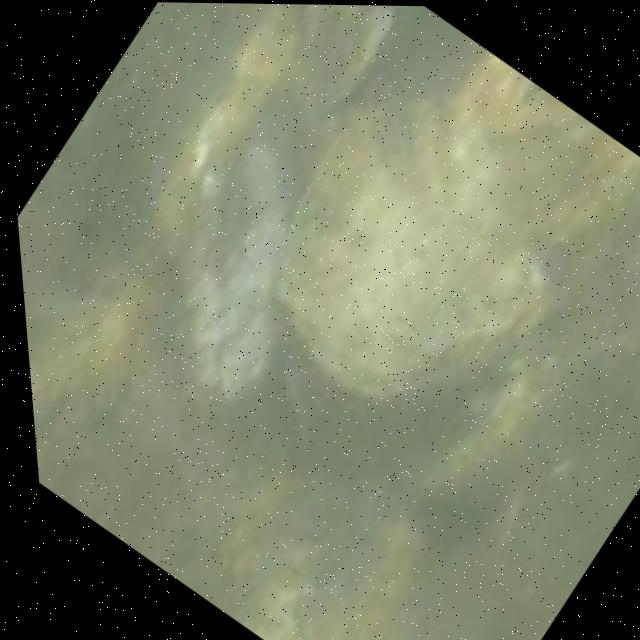Oyster-Indeterminate: (286, 81, 557, 389), (456, 53, 640, 259), (181, 137, 280, 411)
